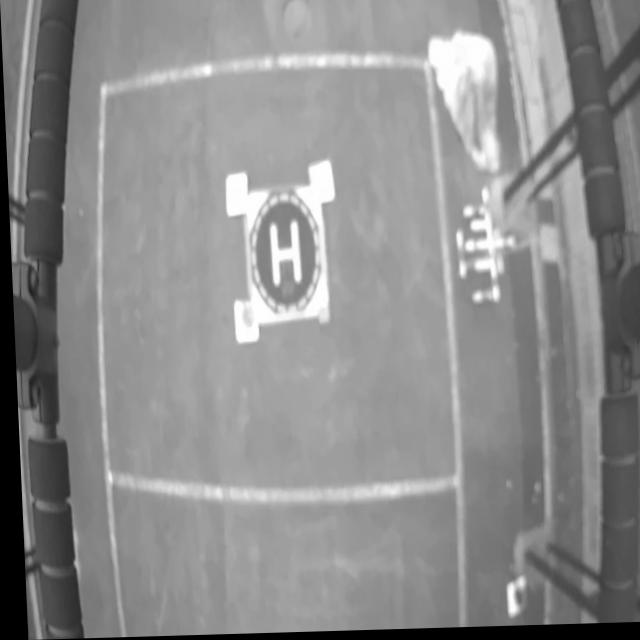Helipad: (267, 221, 299, 289)
